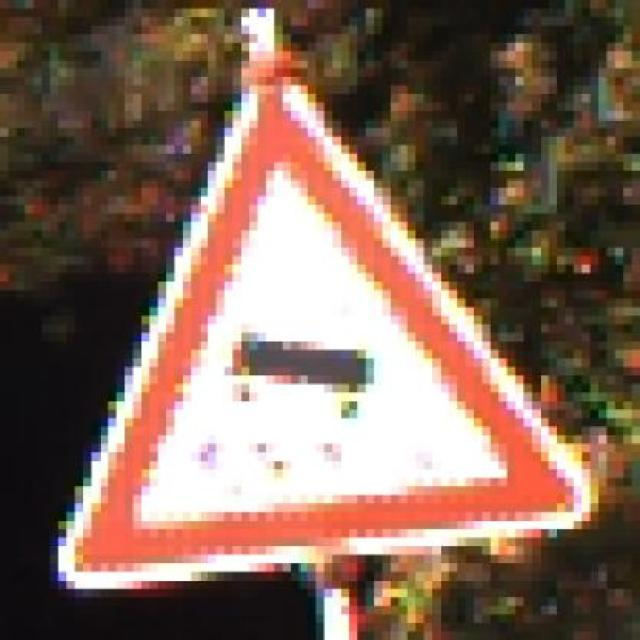Slippery Road Ahead: (59, 68, 598, 589)
